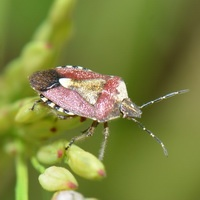insect: (29, 65, 187, 125)
